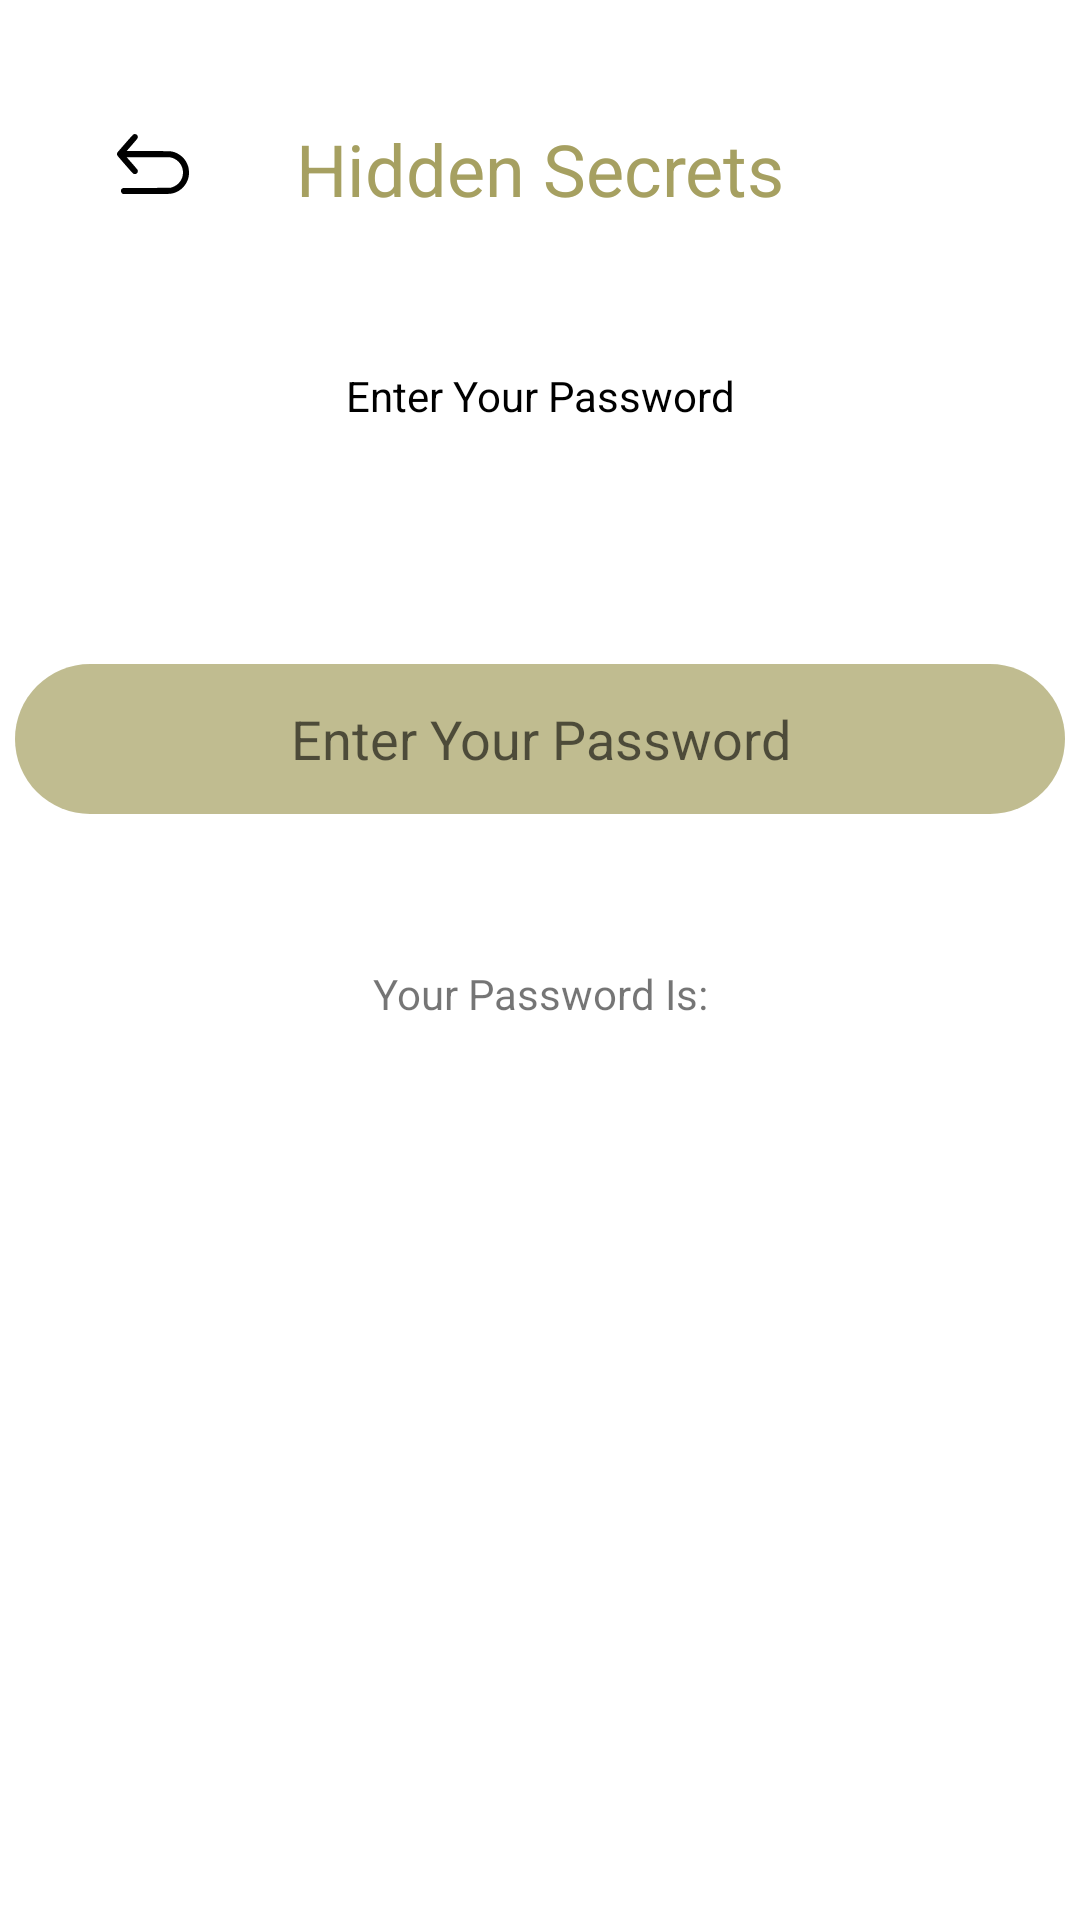

Where to tap for icons on this 1080w x 1920h app screen, as point (x, y):
undopage: point (153, 164)
